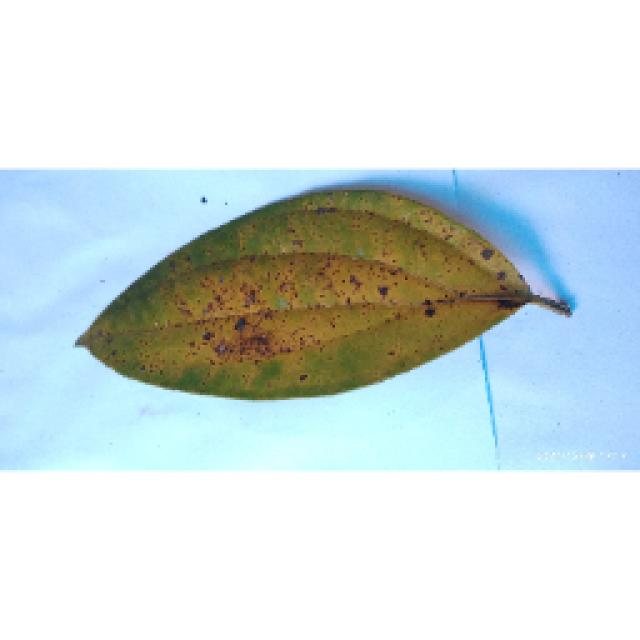slow-decline: (70, 172, 582, 412)
